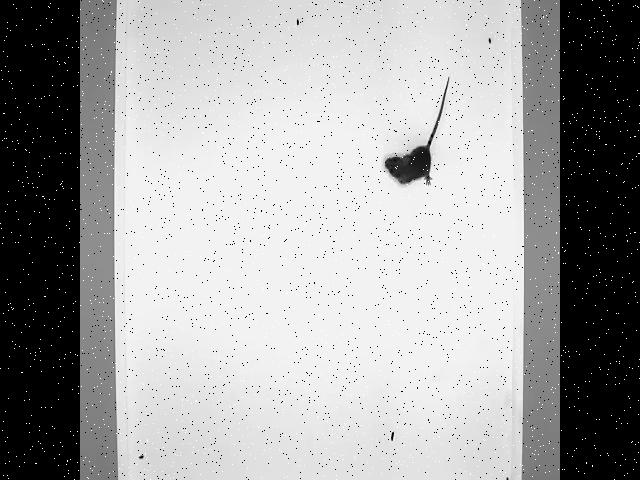Tikus: (380, 72, 456, 189)
